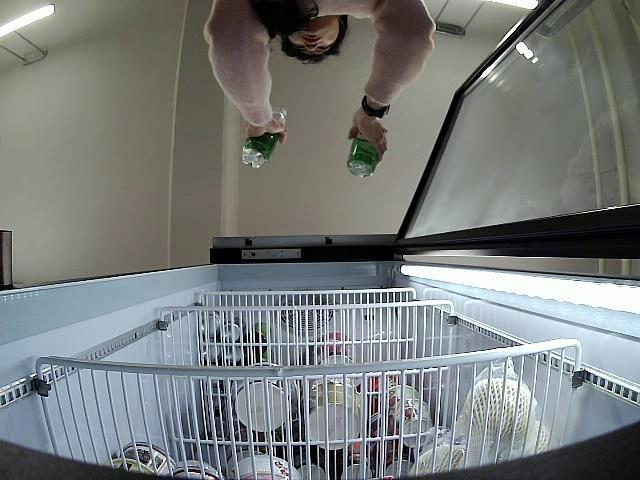18_trevi: (241, 108, 288, 170), (347, 121, 382, 176)
